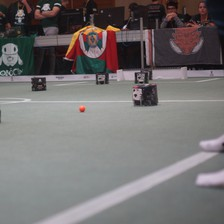ball: (77, 103, 86, 112)
goal: (114, 66, 188, 80)
robot: (129, 81, 159, 107), (28, 75, 48, 92), (93, 71, 109, 85), (132, 71, 149, 84)
